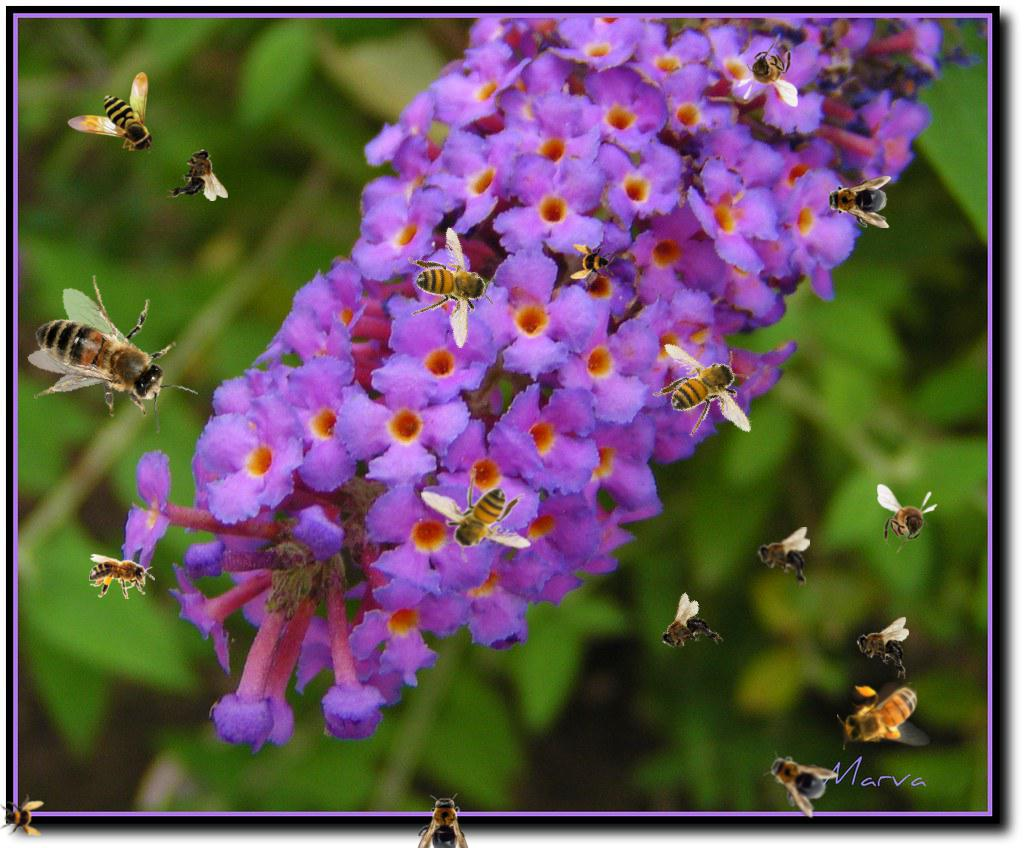Bee: (15, 260, 204, 454), (382, 218, 521, 362), (638, 328, 775, 456), (420, 468, 531, 562), (67, 72, 155, 154), (754, 740, 840, 820), (646, 590, 727, 672), (837, 682, 930, 750), (737, 37, 798, 107), (877, 484, 938, 554), (823, 176, 891, 228), (757, 527, 810, 589), (166, 148, 228, 201), (856, 617, 909, 679), (89, 554, 155, 599), (417, 793, 469, 848), (0, 794, 44, 838), (570, 242, 614, 286)
